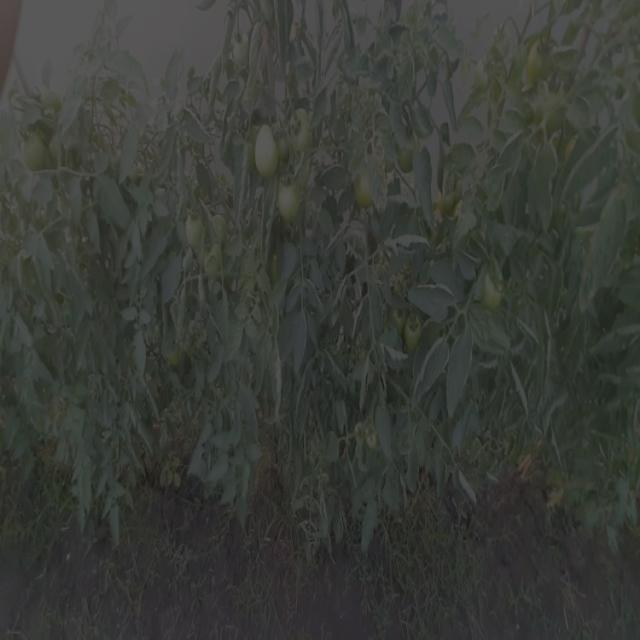tomato: (254, 121, 285, 187), (274, 174, 299, 225), (281, 102, 308, 148), (527, 38, 548, 83), (23, 135, 46, 167), (187, 213, 208, 244), (351, 179, 372, 210), (484, 275, 504, 307), (438, 193, 457, 221), (406, 316, 422, 348), (397, 143, 414, 171), (363, 425, 382, 447), (390, 304, 401, 324)
